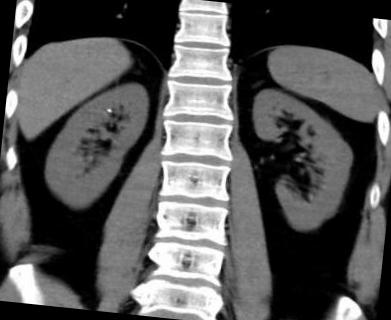Tas_Var: (101, 104, 112, 118)
